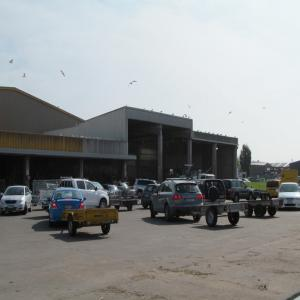Vehicle-registration-plate: (65, 205, 74, 212), (286, 201, 295, 208), (8, 204, 14, 210), (187, 198, 194, 203)
